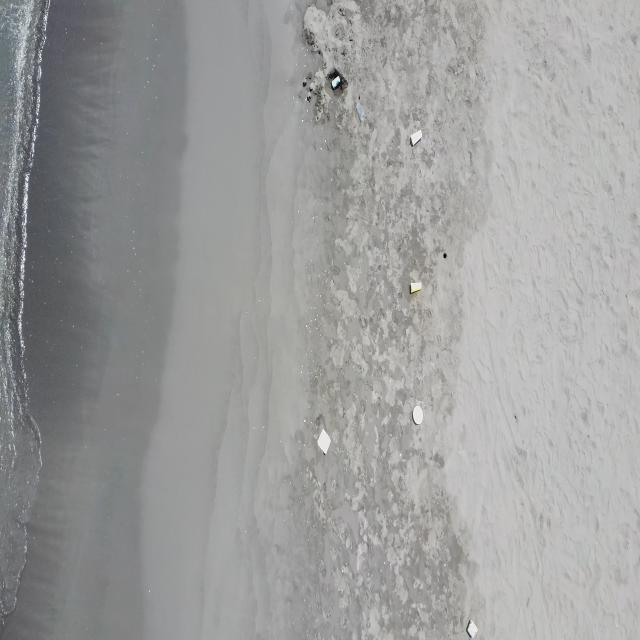take-away-containers: (317, 428, 331, 456), (412, 405, 424, 426), (467, 618, 478, 640)
takeaway-cup: (410, 128, 422, 146), (356, 101, 366, 122), (410, 281, 422, 295), (332, 76, 341, 90)
